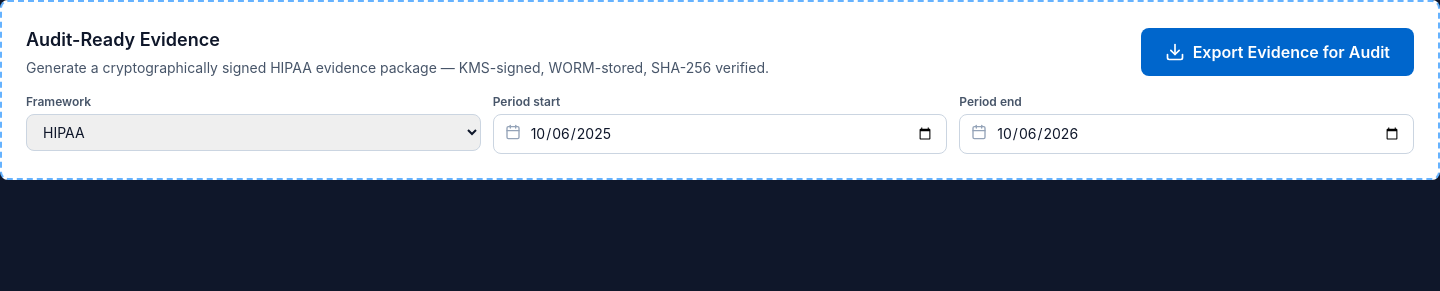
Test case: ExportEvidence › surfaces 404 errors directly and does not show provisioning state
Click the button "Export Evidence for Audit": (1277, 52) [1141, 28, 1414, 76]
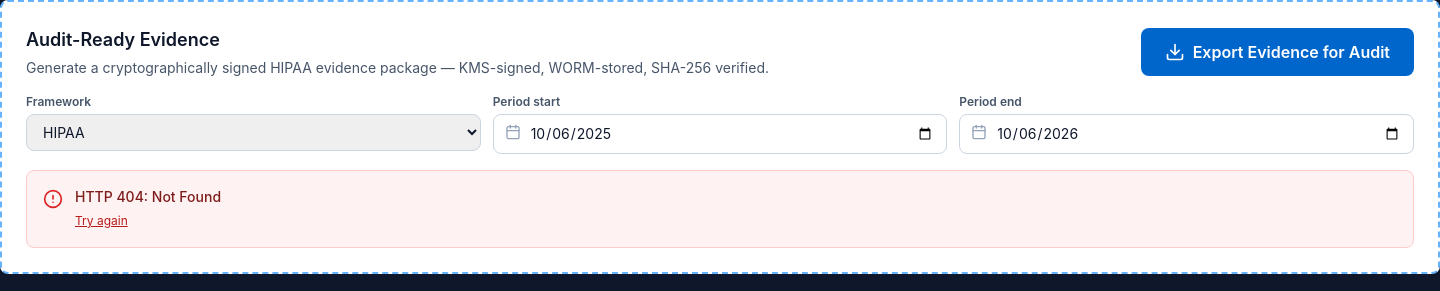
Check: the text "HTTP 404: Not Found" is shown, box [75, 187, 221, 207]
